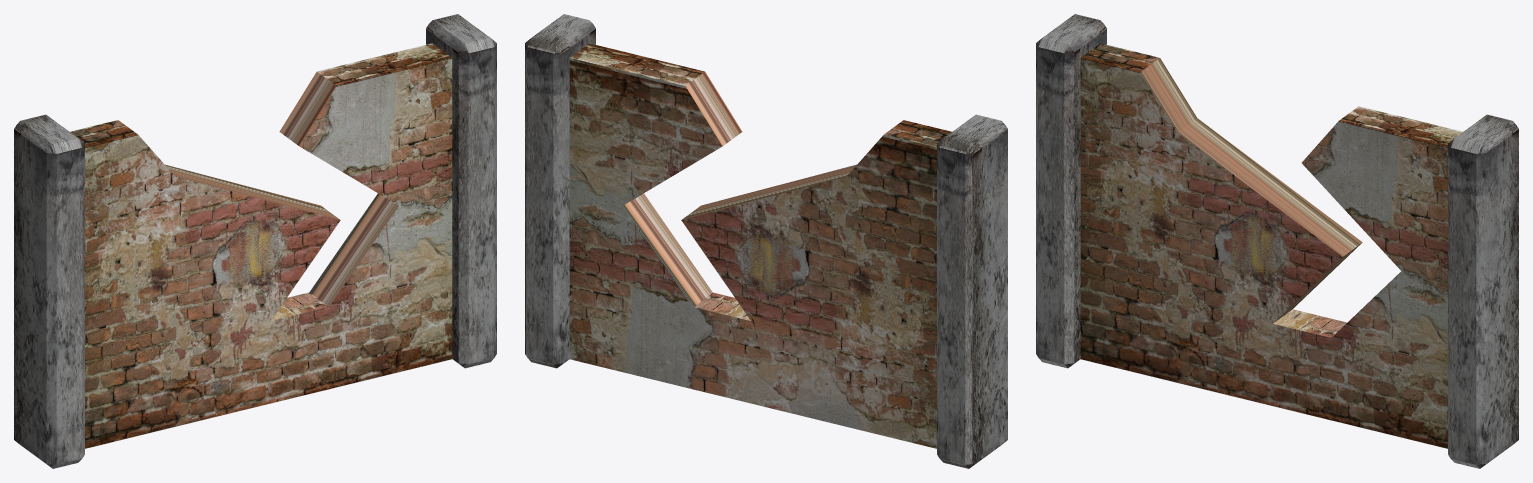
The model's file is wall_1.fbx.
3 renders of one model, left to right at view 1: azimuth 30°, elevation 25°; view 2: azimuth 150°, elevation 25°; view 3: azimuth 330°, elevation 25°, orthographic.
Parts seen in each view (by area): view 1: Cube.001; view 2: Cube.001; view 3: Cube.001.
Part boxes in pixels (x1,y1,x2,y2): Cube.001: (14, 14, 496, 468); Cube.001: (525, 14, 1007, 468); Cube.001: (1036, 14, 1518, 468).
Bounding box in the file's own units: 488 × 336 × 75.04.
